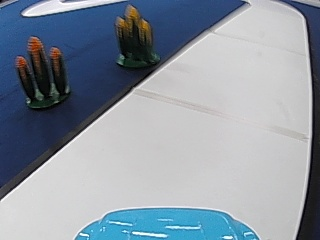corn: (15, 35, 71, 109), (113, 2, 158, 70)
